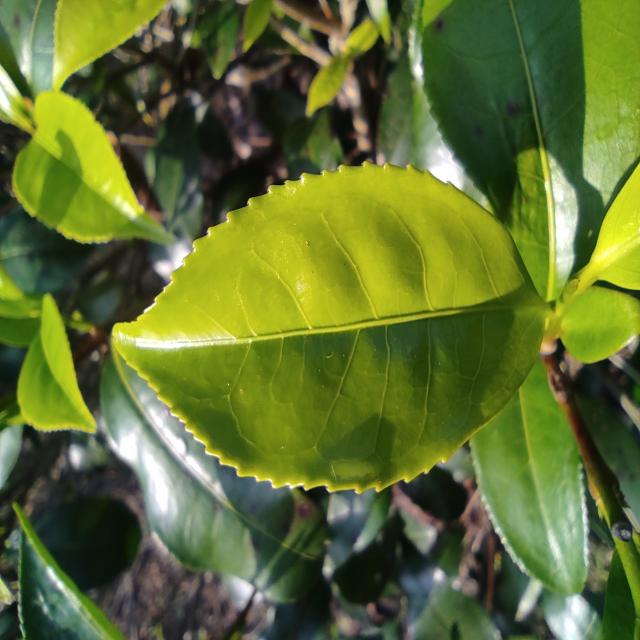Category B(2-4 days): (91, 128, 570, 510)
